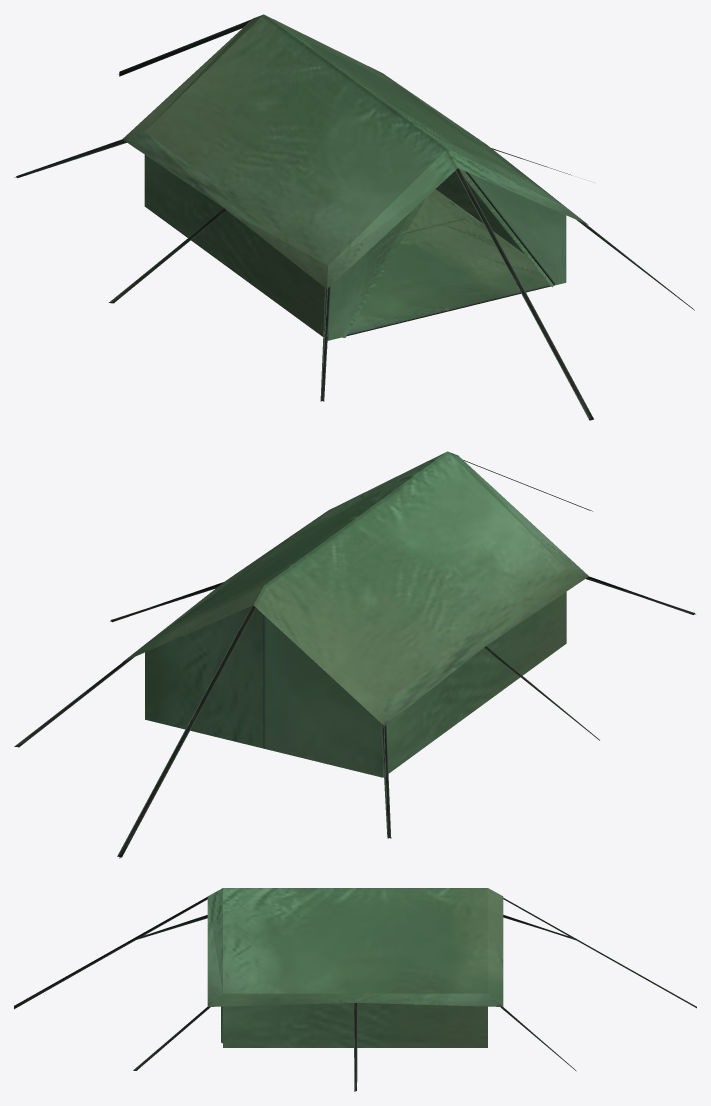
File: Tent02GB.obj
3 renders of one model, top to bottom at view 1: azimuth 30°, elevation 25°; view 2: azimuth 150°, elevation 25°; view 3: azimuth 270°, elevation 25°, orthographic. The views are drawn at different scales.
Visible parts, largest first — view 1: Tent02GB; view 2: Tent02GB; view 3: Tent02GB.
Boxes of the visible parts, x1,y1,x2,y2 form: Tent02GB: (14,14,694,420); Tent02GB: (14,451,695,858); Tent02GB: (14,888,696,1091).
Bounding box in the file's own units: 9.29 × 3.03 × 15.46.
